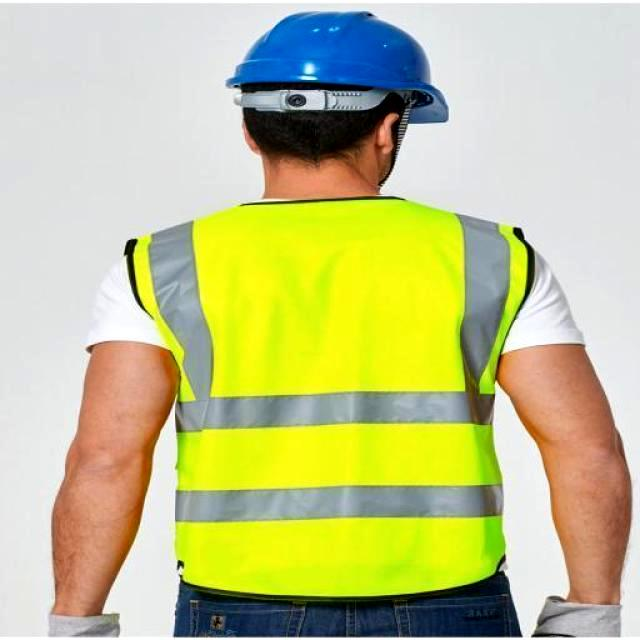hard_hat: (226, 11, 448, 122)
person: (49, 11, 629, 636)
